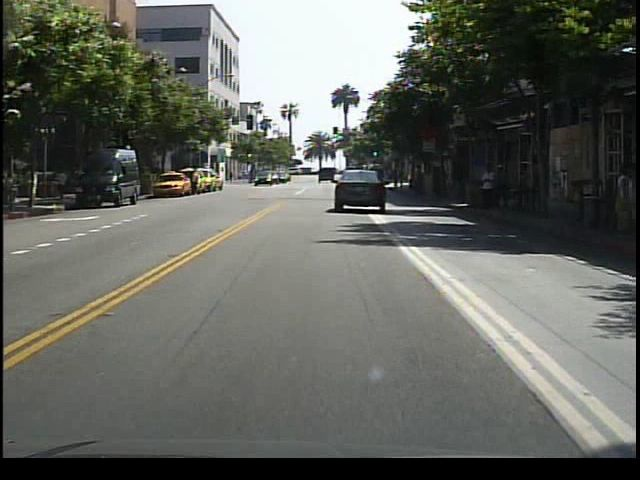person: (476, 161, 503, 218), (188, 162, 204, 198)
